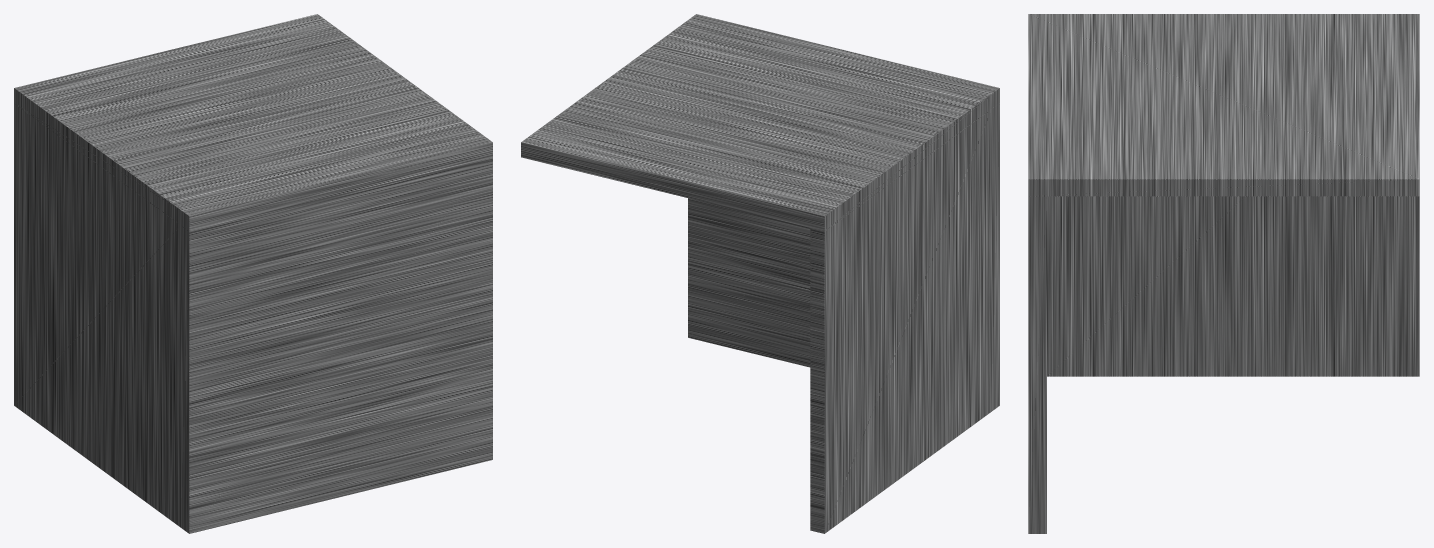
File: corniere-angle-40x40.glb
The picture shows the model from 3 angles, left to right: view 1: azimuth 30°, elevation 25°; view 2: azimuth 150°, elevation 25°; view 3: azimuth 270°, elevation 25°; orthographic projection. The views are drawn at different scales.
Visible parts, largest first — view 1: corniere-angle; view 2: corniere-angle; view 3: corniere-angle.
Boxes of the visible parts, <box> form: corniere-angle: <box>14,14,492,533</box>; corniere-angle: <box>521,14,999,533</box>; corniere-angle: <box>1028,14,1419,533</box>.
Size of the model in its own units: 0.042 by 0.042 by 0.042.
1 material, 1 textured.
